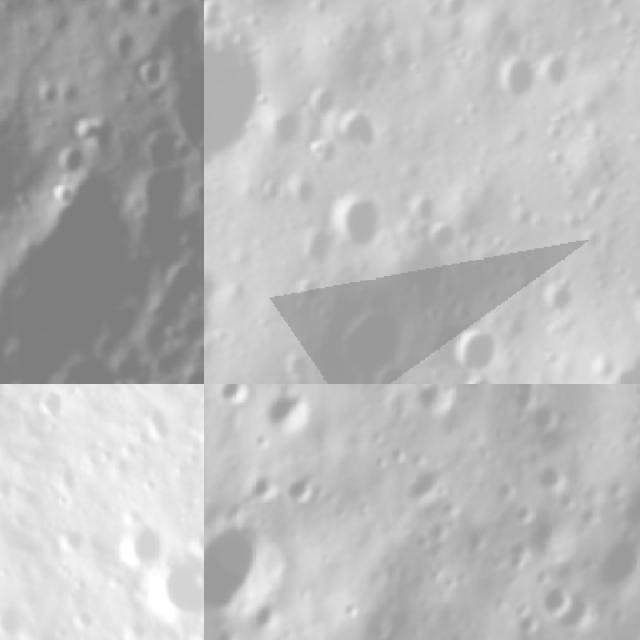crater: (204, 8, 286, 182), (204, 507, 293, 632), (327, 310, 420, 382), (337, 186, 393, 264), (150, 548, 204, 628), (592, 528, 640, 591), (336, 98, 391, 151), (396, 456, 456, 504), (119, 513, 168, 567), (266, 384, 311, 438), (0, 137, 26, 228), (457, 326, 496, 381), (606, 472, 640, 535), (530, 577, 576, 623), (402, 384, 462, 419), (561, 586, 604, 633), (246, 593, 293, 635), (522, 396, 566, 438), (493, 56, 533, 102), (283, 465, 321, 509), (530, 458, 570, 498), (245, 465, 282, 506), (143, 399, 175, 446), (211, 384, 264, 412), (133, 57, 170, 96), (51, 518, 88, 556), (53, 454, 86, 496), (499, 495, 536, 532), (459, 516, 494, 554), (27, 75, 64, 110), (43, 179, 82, 212), (497, 537, 535, 570), (56, 146, 92, 179), (421, 514, 458, 546), (108, 30, 142, 64), (34, 384, 66, 419), (0, 603, 28, 640), (310, 84, 336, 120), (134, 0, 168, 26), (488, 472, 517, 502), (336, 594, 362, 620), (76, 0, 110, 12), (110, 373, 137, 384)
